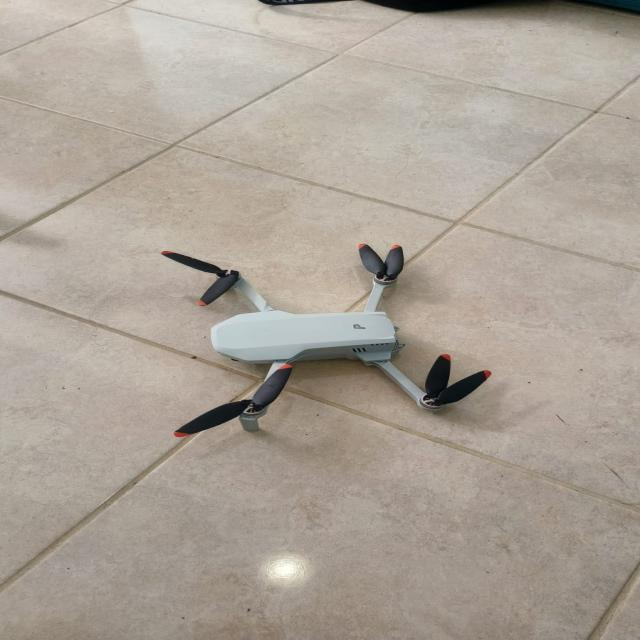dron: (133, 240, 504, 457)
